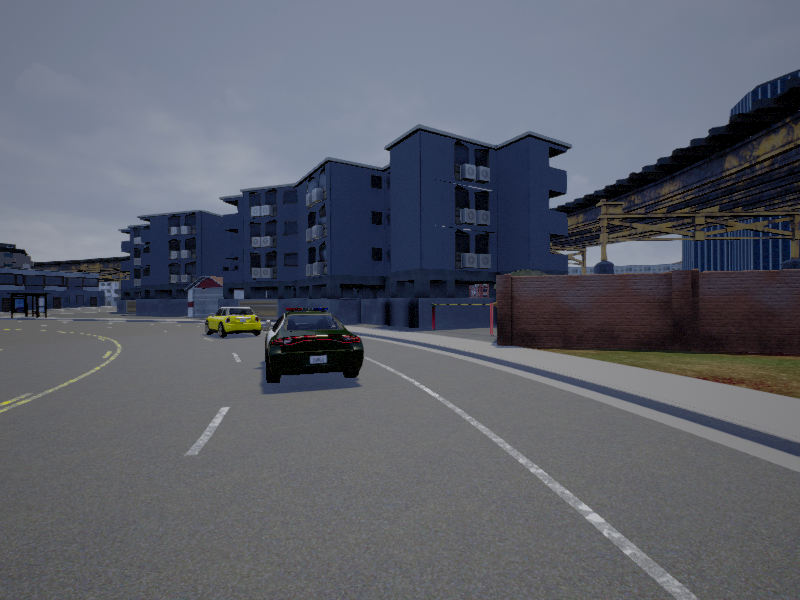Benign: (266, 308, 366, 384), (203, 306, 262, 337)
